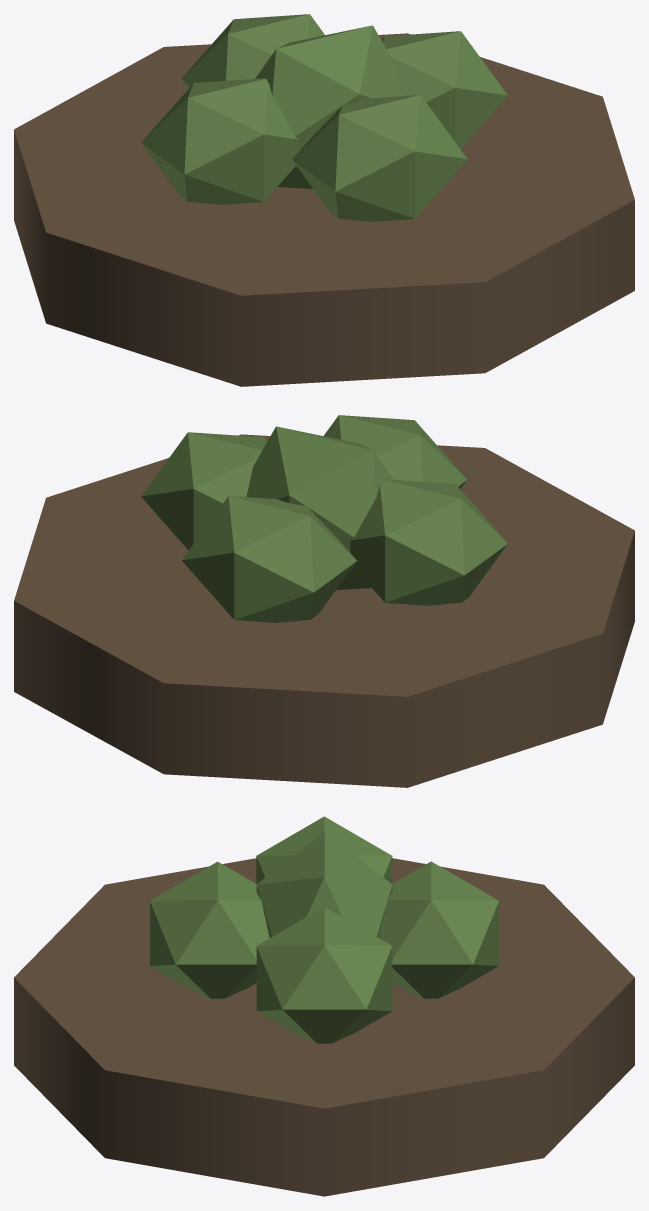
Rendered from plant-moss-0.glb.
3 renders of one model, top to bottom at view 1: azimuth 30°, elevation 25°; view 2: azimuth 150°, elevation 25°; view 3: azimuth 270°, elevation 25°, orthographic. The views are drawn at different scales.
Visible parts, largest first — view 1: plant-moss-0-visual; view 2: plant-moss-0-visual; view 3: plant-moss-0-visual.
Part boxes in pixels (x1,y1,x2,y2): plant-moss-0-visual: (14,14,634,386); plant-moss-0-visual: (14,415,634,787); plant-moss-0-visual: (14,816,634,1196).
Bounding box in the file's own units: 0.32 × 0.12 × 0.32.
